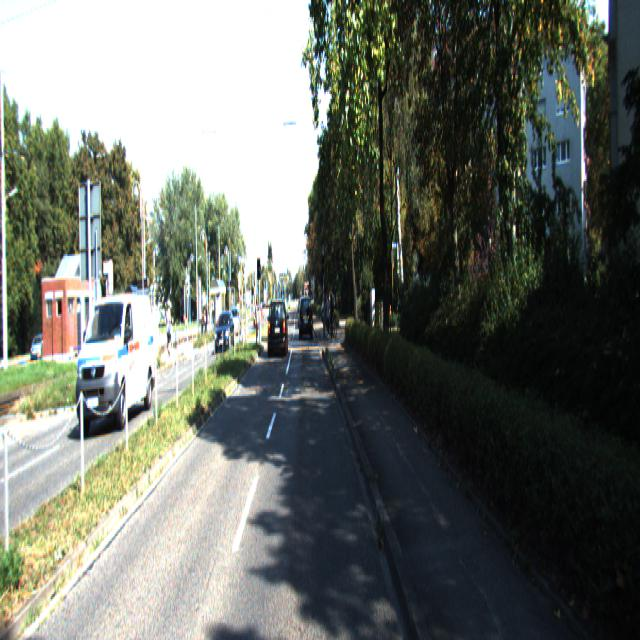Car: (76, 292, 157, 433), (268, 300, 288, 360), (215, 311, 235, 355), (300, 296, 314, 342)
